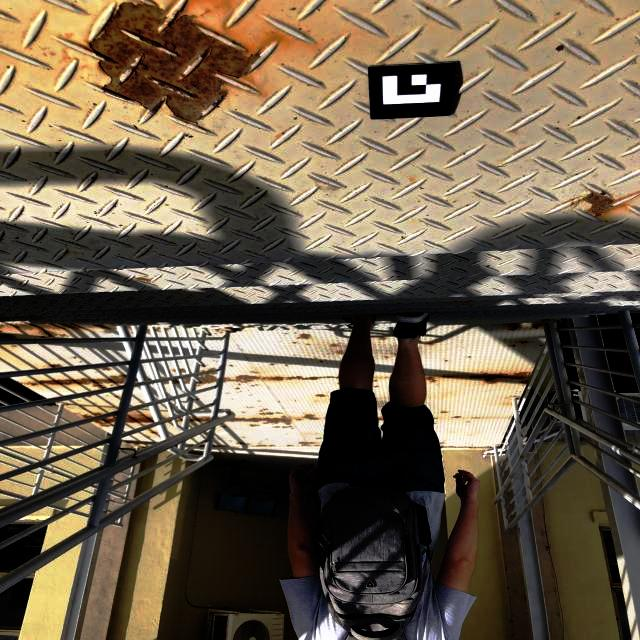Corrosion: (89, 2, 260, 125), (0, 323, 116, 338), (27, 374, 127, 389), (227, 414, 321, 425), (582, 190, 615, 216), (468, 371, 532, 384), (196, 372, 218, 387), (223, 375, 260, 383), (94, 415, 117, 427), (285, 376, 339, 381), (126, 414, 154, 423), (508, 323, 523, 331), (261, 376, 284, 381), (134, 277, 152, 283), (0, 333, 17, 339), (190, 417, 210, 422), (298, 441, 318, 446), (440, 441, 456, 447), (296, 333, 311, 339), (201, 367, 218, 372), (425, 376, 437, 383), (80, 414, 94, 419), (441, 374, 454, 379), (531, 324, 543, 329), (49, 364, 64, 368), (183, 377, 191, 384), (520, 379, 529, 385), (98, 367, 111, 371), (235, 442, 251, 445), (336, 350, 345, 355), (379, 336, 387, 341), (259, 408, 269, 412), (260, 412, 273, 415), (180, 368, 186, 374), (154, 327, 161, 332), (329, 344, 340, 347), (249, 424, 260, 427), (162, 381, 170, 385), (172, 380, 180, 384), (451, 416, 461, 419), (316, 394, 326, 397), (212, 445, 226, 447), (133, 442, 140, 446), (249, 371, 258, 374), (254, 445, 267, 447), (146, 329, 151, 334), (520, 341, 528, 344), (232, 328, 240, 331), (177, 418, 183, 422), (93, 413, 101, 416), (275, 412, 285, 414), (512, 344, 516, 348), (440, 411, 448, 413), (128, 326, 132, 330), (428, 343, 433, 346), (378, 417, 383, 420), (215, 328, 220, 331), (222, 425, 227, 428), (114, 395, 119, 398), (166, 328, 171, 331), (268, 445, 275, 447), (151, 432, 158, 434), (199, 445, 205, 447), (282, 426, 288, 428), (173, 368, 176, 372), (73, 356, 77, 359), (11, 345, 17, 347), (148, 378, 152, 381), (433, 417, 438, 419), (373, 386, 378, 388), (373, 380, 378, 382), (274, 426, 279, 428), (394, 353, 397, 356), (539, 345, 543, 347), (444, 360, 448, 362), (385, 356, 389, 358), (224, 330, 228, 332), (217, 417, 221, 419), (313, 445, 320, 446), (287, 445, 294, 446), (88, 396, 91, 398), (136, 379, 138, 382), (142, 447, 147, 448), (197, 333, 199, 335)
